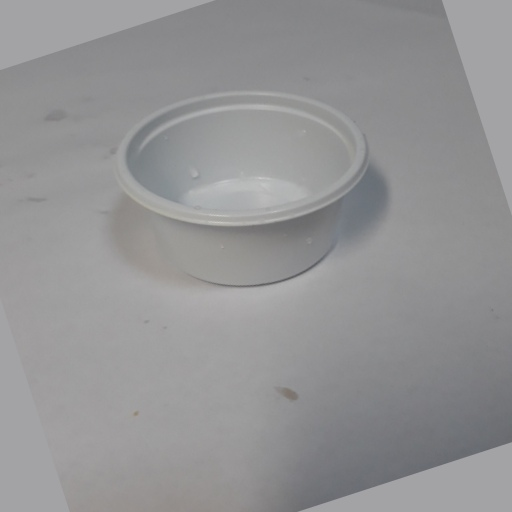Plastic_5: (113, 88, 371, 290)
